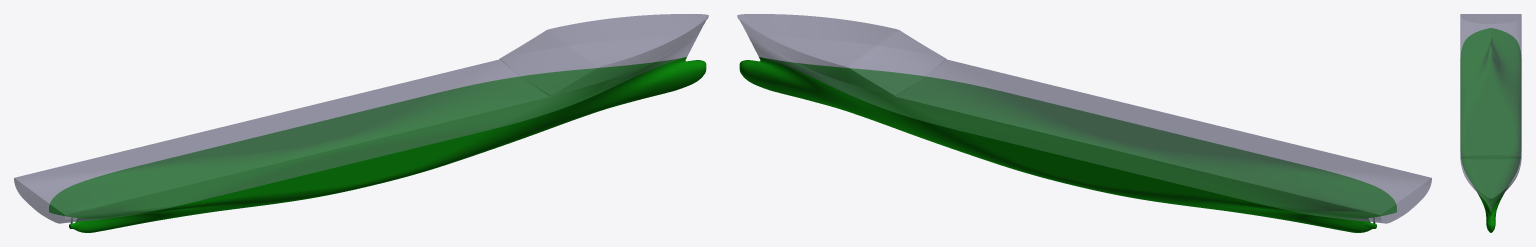
The model's file is KRISO Container Ship(SVA)KCS.obj.
3 views of the same model, side by side, from view 1: azimuth 30°, elevation 25°; view 2: azimuth 150°, elevation 25°; view 3: azimuth 270°, elevation 25° (orthographic). The views are drawn at different scales.
Bounding box in the file's own units: 244 × 23.51 × 32.2.
